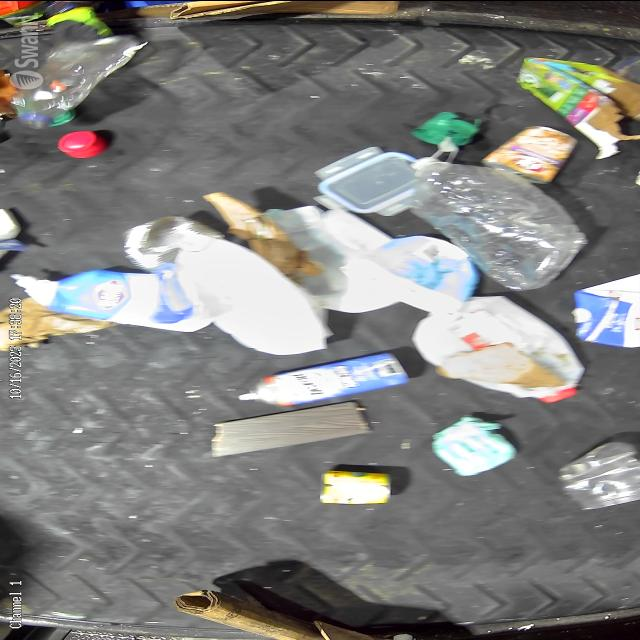can: (491, 128, 571, 180), (126, 221, 204, 260), (316, 470, 398, 503)
milk_jug: (416, 297, 582, 399), (172, 245, 318, 348)
plastic_bottle: (402, 155, 582, 282)
